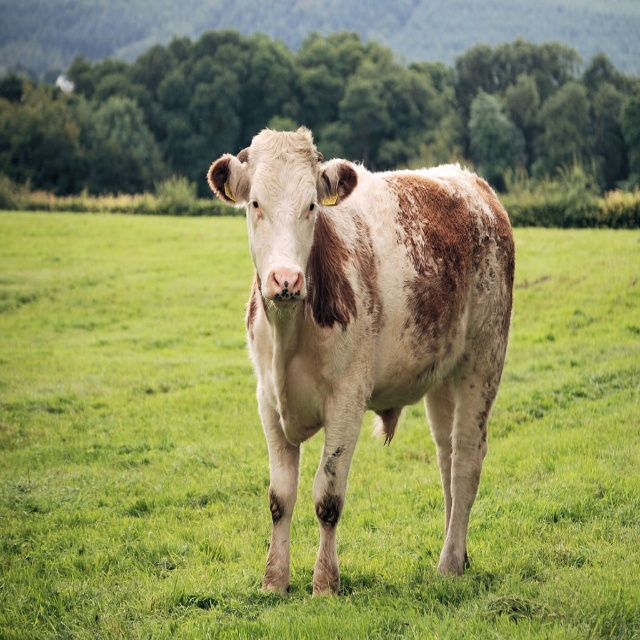Cattle: (206, 123, 516, 600)
